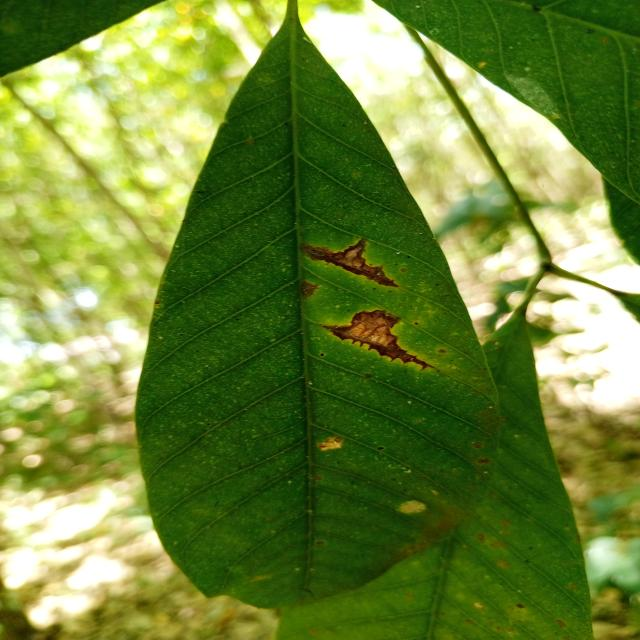Corynespora: (320, 310, 435, 371), (301, 238, 398, 288)
